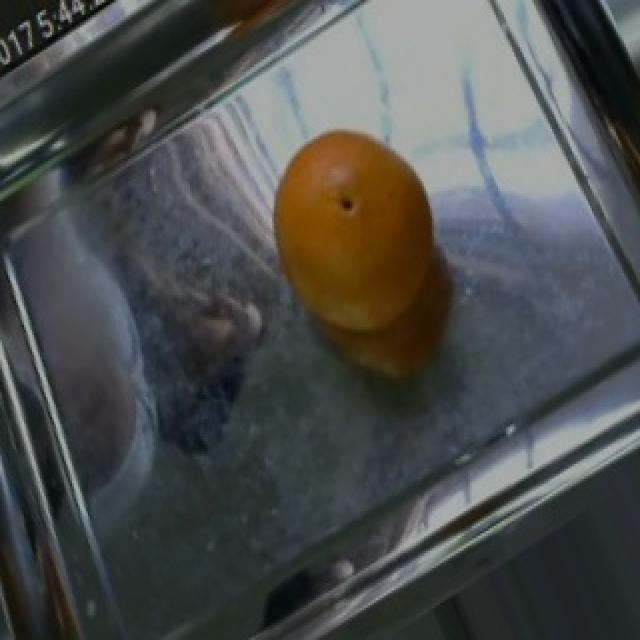Fruit: (244, 114, 460, 347)
